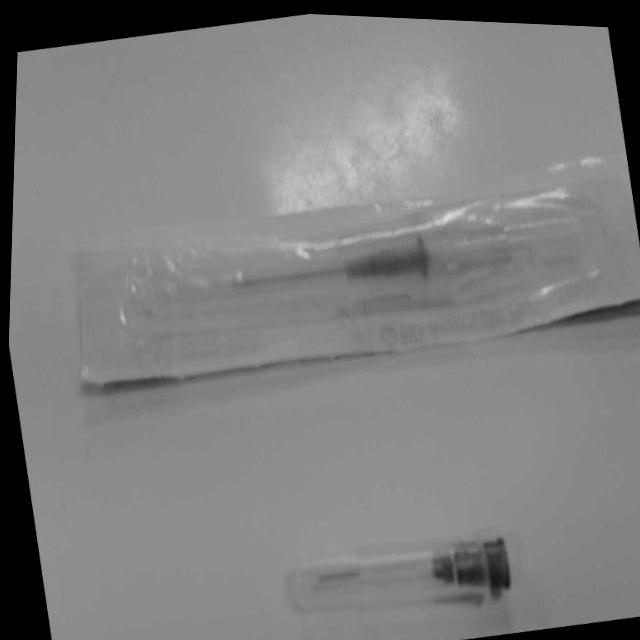Infectious: (70, 152, 637, 391)
Pathological: (8, 10, 639, 639)
Sharps: (283, 536, 510, 615)
